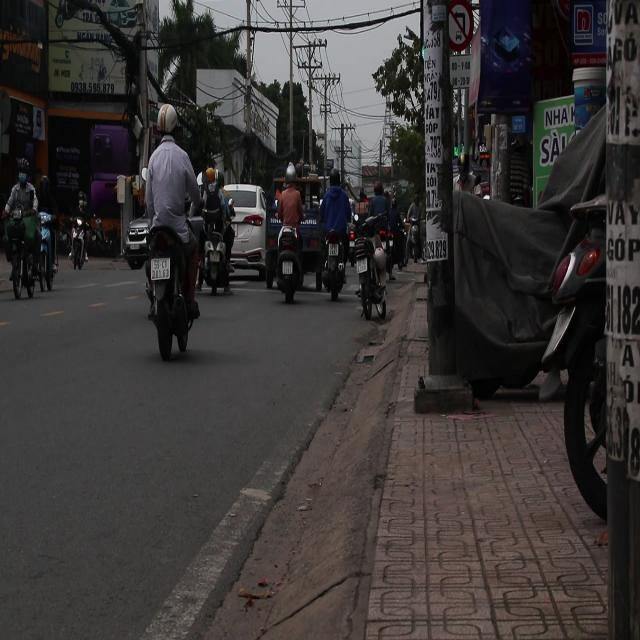car: (222, 182, 274, 283)
motorbike: (144, 214, 202, 362), (0, 182, 38, 309), (352, 220, 391, 321), (198, 212, 235, 296), (269, 224, 307, 302), (31, 200, 59, 305), (68, 195, 98, 282), (319, 227, 348, 301)
